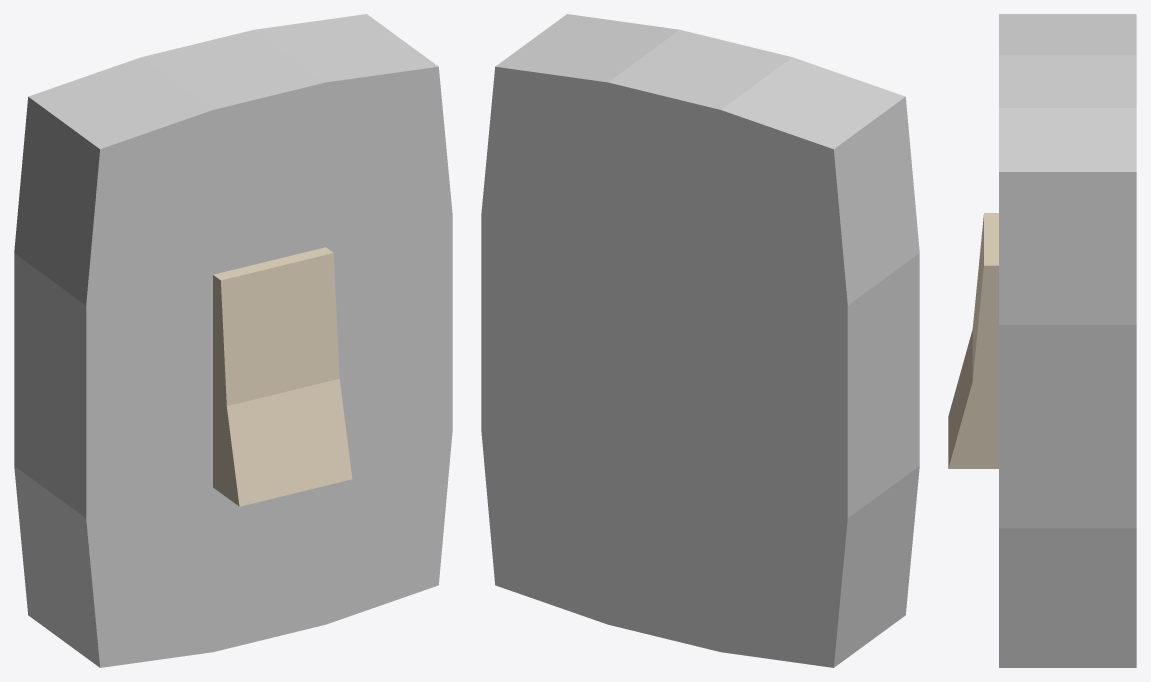
File: InterruptorCerto.fbx
3 views of the same model, side by side, from view 1: azimuth 30°, elevation 25°; view 2: azimuth 150°, elevation 25°; view 3: azimuth 270°, elevation 25° (orthographic). The views are drawn at different scales.
Parts seen in each view (by area): view 1: Cube.034, Cube.035; view 2: Cube.034; view 3: Cube.034, Cube.035.
Part boxes in pixels (box(x1,y1,x2,y2)): Cube.034: box(14, 14, 452, 667); Cube.035: box(213, 247, 352, 506); Cube.034: box(481, 14, 919, 667); Cube.034: box(999, 14, 1136, 667); Cube.035: box(948, 213, 998, 468).
Bounding box in the file's own units: 42.92 × 60.66 × 19.96.
